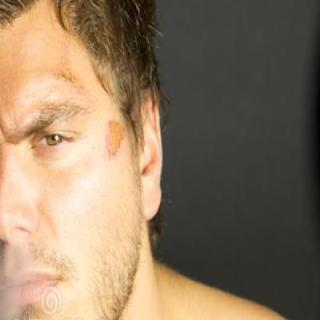smoke: (0, 264, 22, 320)
